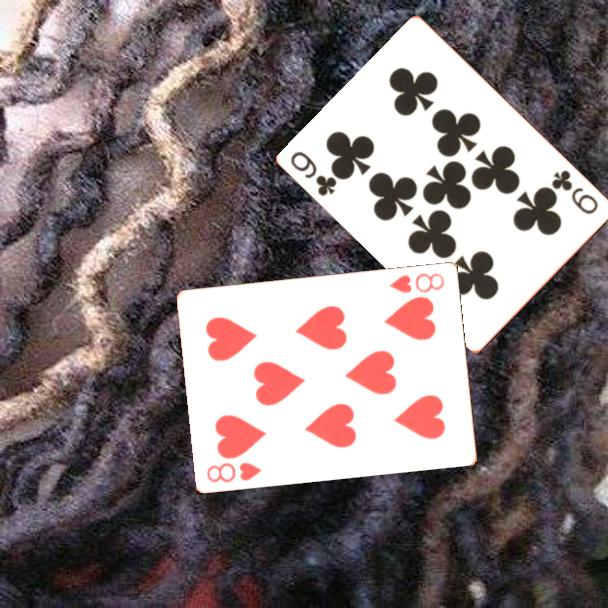c09: (287, 147, 340, 199), (548, 167, 601, 217)
h08: (386, 269, 447, 296), (204, 458, 264, 485)
